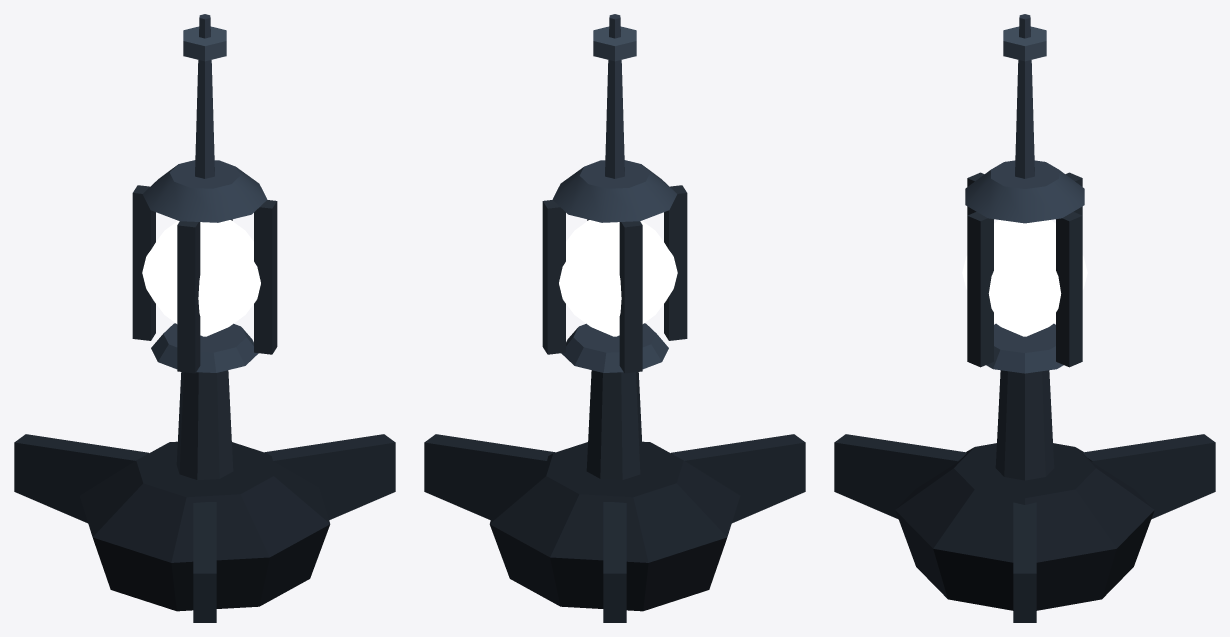
The model's file is baliza.glb.
The picture shows the model from 3 angles, left to right: view 1: azimuth 30°, elevation 25°; view 2: azimuth 150°, elevation 25°; view 3: azimuth 270°, elevation 25°; orthographic projection.
Parts seen in each view (by area): view 1: body, lamp; view 2: body, lamp; view 3: body, lamp.
Boxes of the visible parts, <box> form: body: <box>14,14,395,622</box>; lamp: <box>142,220,260,336</box>; body: <box>424,14,805,622</box>; lamp: <box>559,220,677,336</box>; body: <box>834,14,1215,622</box>; lamp: <box>962,220,1087,336</box>.
Size of the model in its own units: 1.64 by 2.9 by 1.82.
